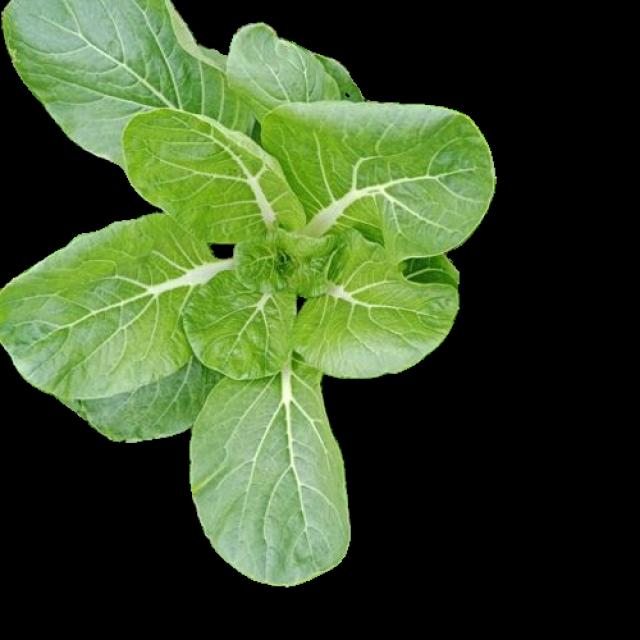healthy: (1, 1, 494, 585)
mature: (1, 4, 494, 587)
